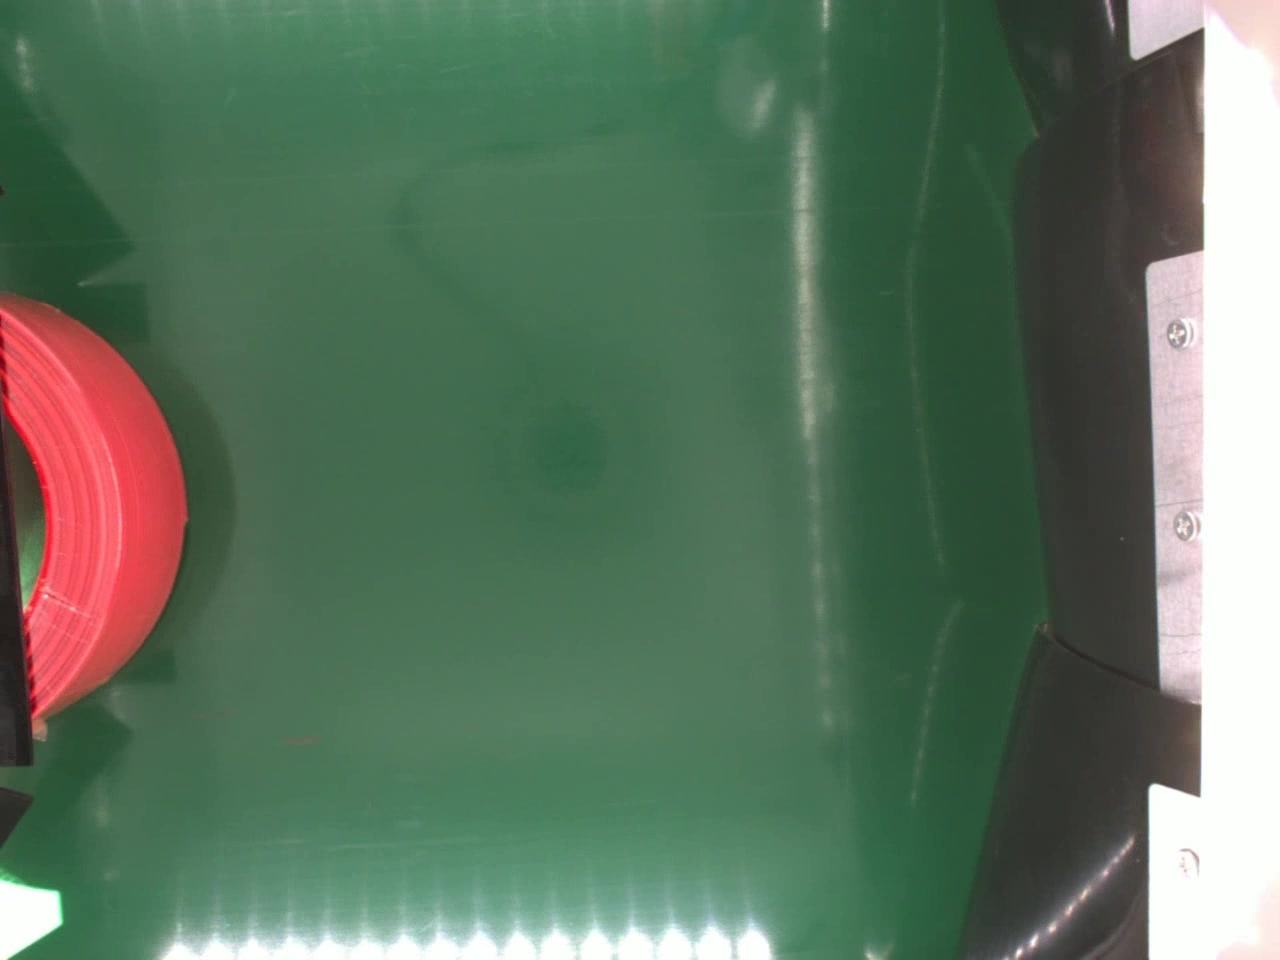red: (0, 287, 191, 721)
